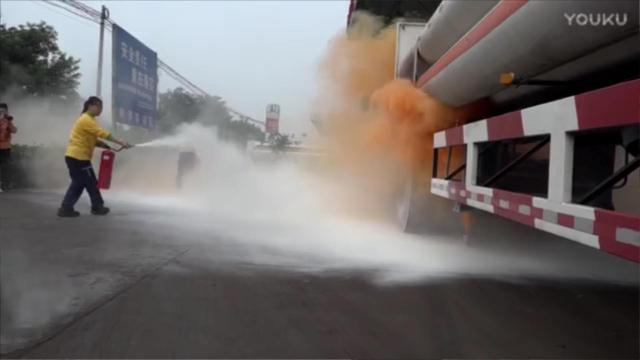smoke: (366, 80, 440, 172)
